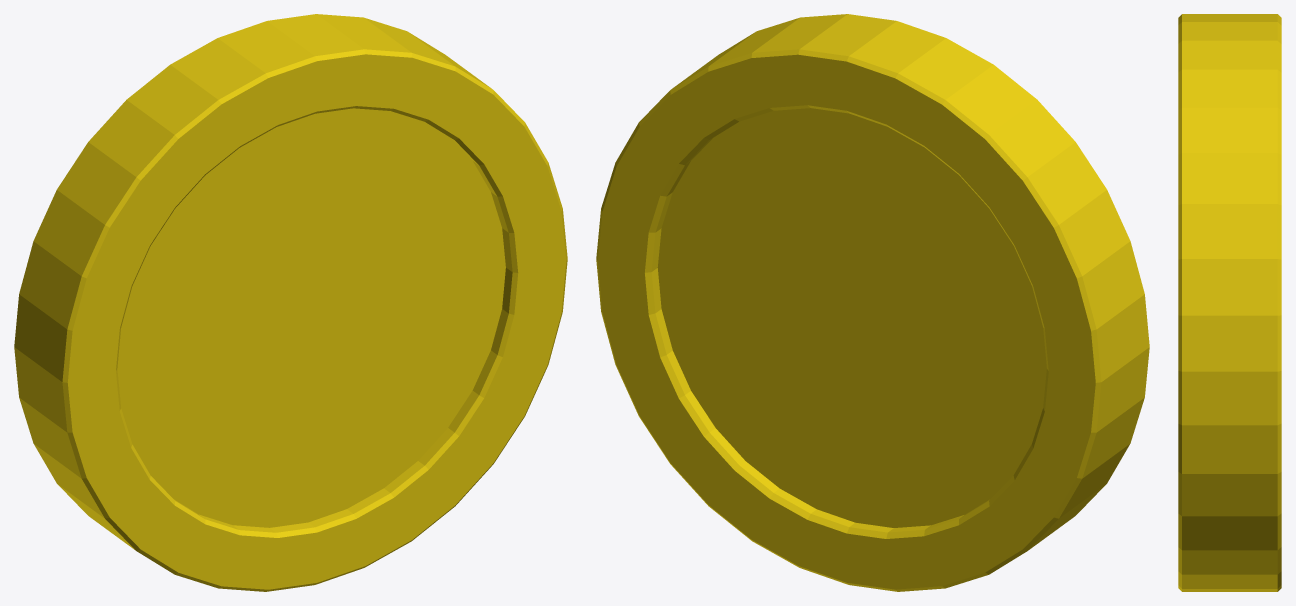
Rendered from coin.fbx.
3 renders of one model, left to right at view 1: azimuth 30°, elevation 25°; view 2: azimuth 150°, elevation 25°; view 3: azimuth 270°, elevation 25°, orthographic.
Visible parts, largest first — view 1: Cylinder; view 2: Cylinder; view 3: Cylinder.
Boxes of the visible parts, x1,y1,x2,y2 form: Cylinder: (14,14,567,591); Cylinder: (596,14,1149,591); Cylinder: (1178,14,1281,591).
Bounding box in the file's own units: 13.33 × 13.33 × 2.39.
